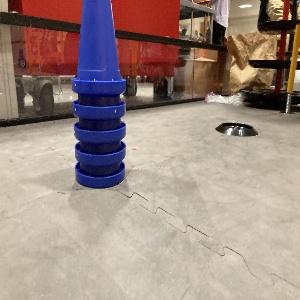Blue_5: (69, 0, 127, 192)
